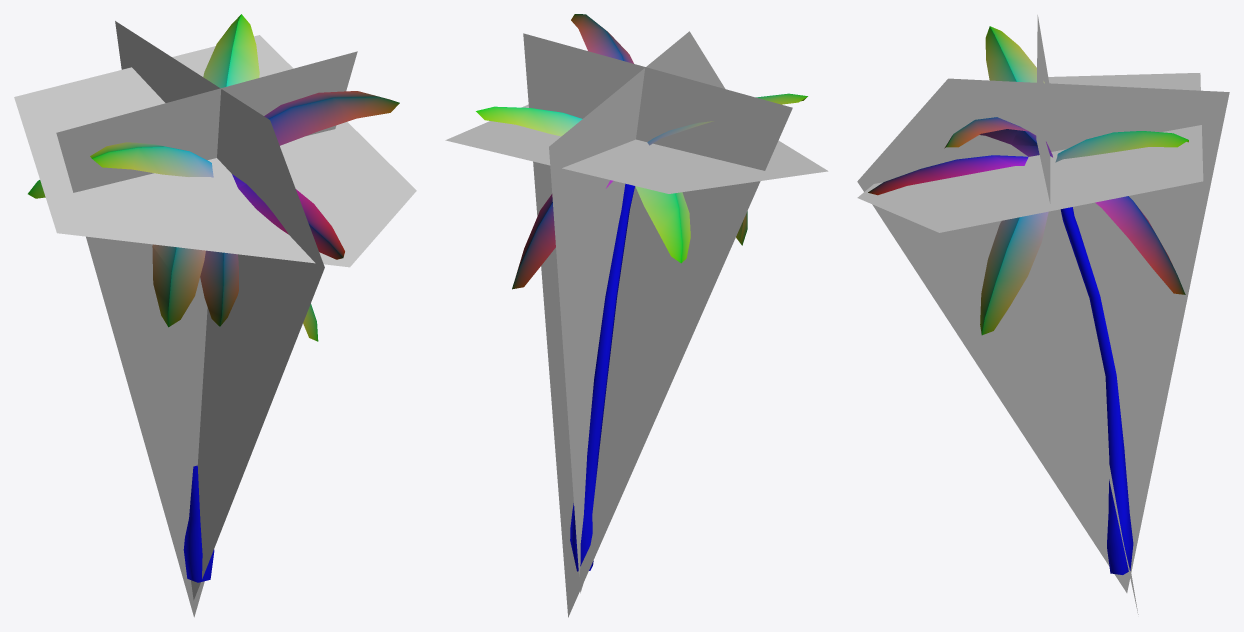
Rendered from Palm_01.fbx.
3 renders of one model, left to right at view 1: azimuth 30°, elevation 25°; view 2: azimuth 150°, elevation 25°; view 3: azimuth 270°, elevation 25°, orthographic. The views are drawn at different scales.
Visible parts, largest first — view 1: Palm_01_billboard, Palm_01; view 2: Palm_01_billboard, Palm_01; view 3: Palm_01_billboard, Palm_01.
Boxes of the visible parts, left/top/right/bottom form: Palm_01_billboard: left=14, top=21, right=416, bottom=617; Palm_01: left=28, top=14, right=399, bottom=582; Palm_01_billboard: left=445, top=31, right=828, bottom=617; Palm_01: left=476, top=14, right=807, bottom=571; Palm_01_billboard: left=857, top=15, right=1229, bottom=614; Palm_01: left=868, top=26, right=1188, bottom=574.
Bounding box in the file's own units: 232 × 396 × 254.
